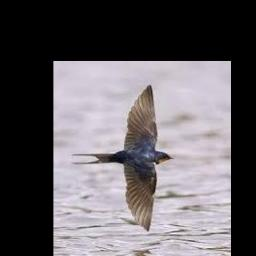Swallow: (70, 85, 173, 232)
